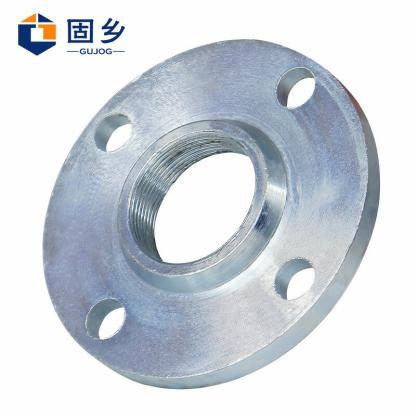FOD: (37, 33, 383, 388)
